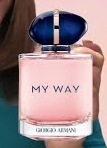armani_my_way_floral: (17, 12, 94, 139)
